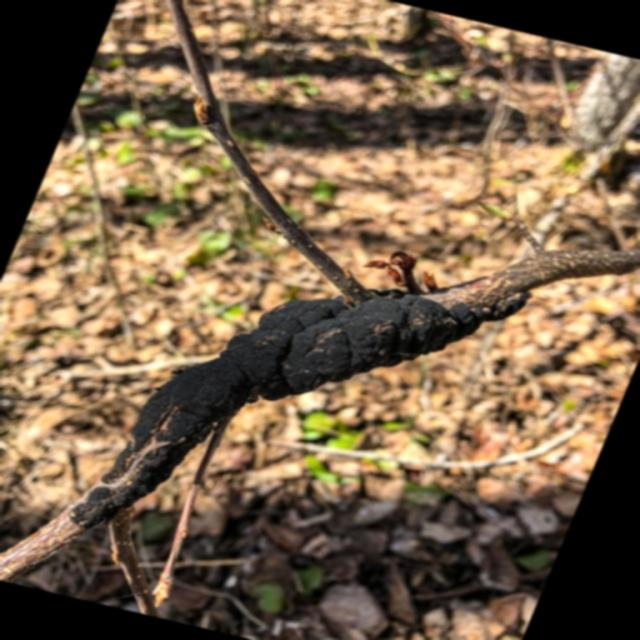Black_knot: (55, 230, 524, 558)
